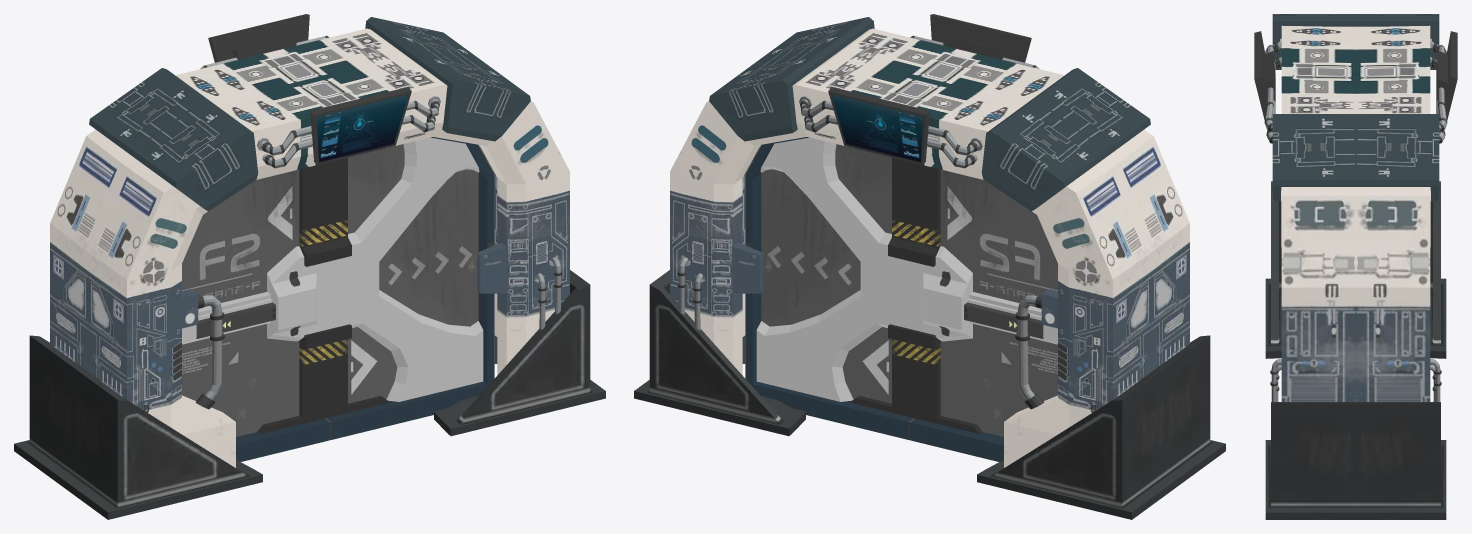
Rendered from hollow-door.glb.
3 views of the same model, side by side, from view 1: azimuth 30°, elevation 25°; view 2: azimuth 150°, elevation 25°; view 3: azimuth 270°, elevation 25° (orthographic). The views are drawn at different scales.
Visible parts, largest first — view 1: Object008_pillar_0, Object008_LOCK1_0, Object008_DOOR_0, Object008_Bottom_0, Object008_lock02_0, Object008_emissive_0, Object008_TUBE_0; view 2: Object008_pillar_0, Object008_LOCK1_0, Object008_DOOR_0, Object008_Bottom_0, Object008_lock02_0, Object008_emissive_0, Object008_TUBE_0; view 3: Object008_pillar_0, Object008_Bottom_0, Object008_LOCK1_0, Object008_emissive_0, Object008_TUBE_0.
Boxes of the visible parts, x1,y1,x2,y2 form: Object008_pillar_0: (50,28,569,467); Object008_LOCK1_0: (89,17,530,401); Object008_DOOR_0: (182,137,494,461); Object008_Bottom_0: (14,270,605,519); Object008_lock02_0: (257,157,389,434); Object008_emissive_0: (208,14,411,164); Object008_TUBE_0: (195,35,562,409); Object008_pillar_0: (670,28,1189,467); Object008_LOCK1_0: (709,17,1150,401); Object008_DOOR_0: (745,137,1057,461); Object008_Bottom_0: (634,270,1225,519); Object008_lock02_0: (850,157,982,434); Object008_emissive_0: (828,14,1031,164); Object008_TUBE_0: (677,35,1044,409); Object008_pillar_0: (1281,25,1430,401); Object008_Bottom_0: (1265,181,1446,519); Object008_LOCK1_0: (1272,14,1439,201); Object008_emissive_0: (1254,31,1457,128); Object008_TUBE_0: (1264,38,1447,401).
Bounding box in the file's own units: 221 × 154 × 81.25.
7 materials, 7 textured.
